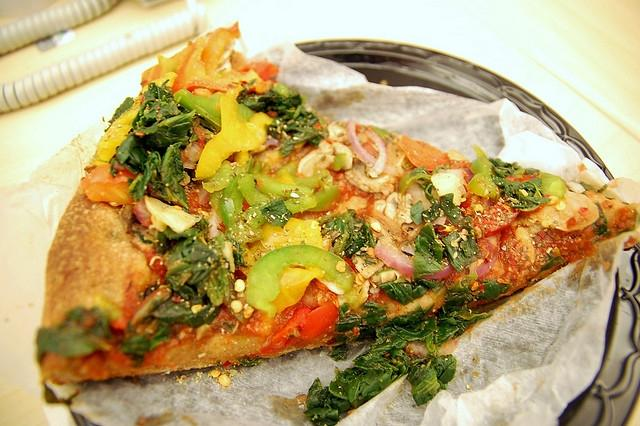bell pepper: (245, 244, 356, 317), (94, 85, 148, 162), (172, 36, 229, 94), (192, 131, 241, 181), (174, 88, 222, 134), (219, 172, 244, 237), (252, 174, 314, 198), (276, 162, 326, 188), (304, 178, 342, 212), (238, 173, 273, 206), (466, 174, 501, 200), (538, 171, 567, 199), (330, 153, 348, 171)
onion: (374, 238, 454, 280), (348, 119, 402, 176), (144, 195, 202, 234), (364, 127, 386, 178), (462, 168, 473, 184), (264, 138, 278, 147)
